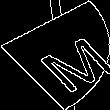M_NW: (9, 21, 101, 89)
